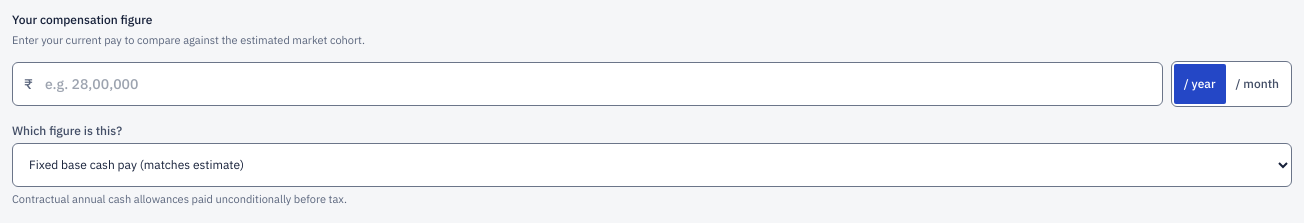
Test case: MoneyField › handles 'Which figure is this?' measure selection and hint update
Select "Total CTC (Cost to Company)" in the dropdown labelled "Which figure is this?" at (652, 164), box [12, 142, 1292, 186]
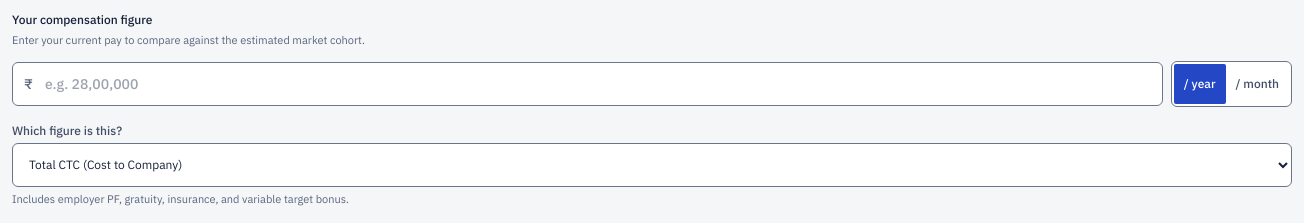
Now the text "Includes employer PF, gratuity, insurance" is shown, box [12, 192, 349, 206]
